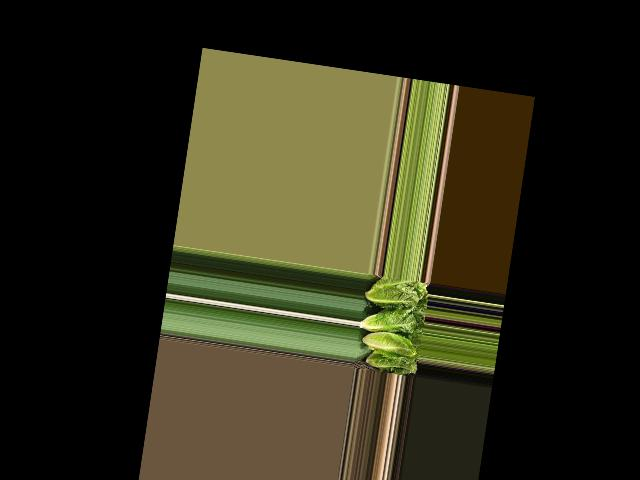lettuce: (366, 350, 418, 373)
